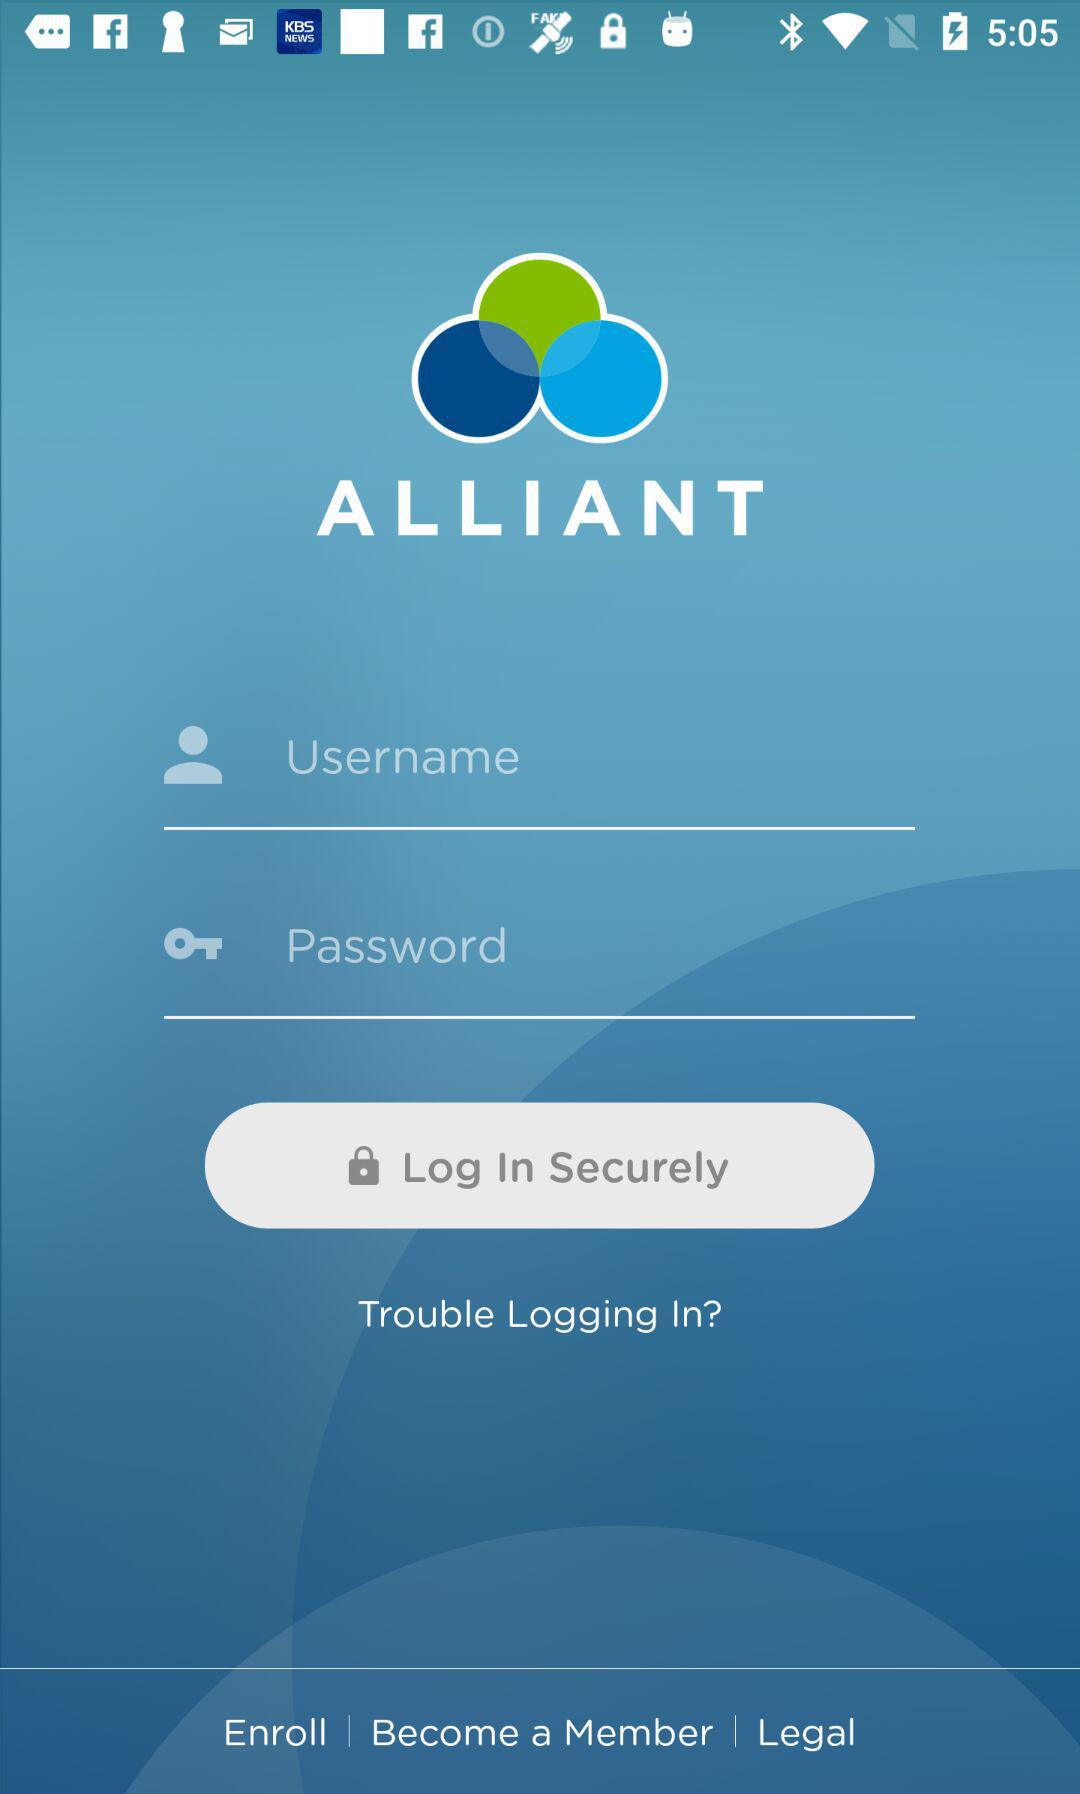EditText: (163, 725, 916, 832), (164, 926, 916, 1021)
Icon: (164, 725, 224, 786)
Image: (410, 252, 670, 447), (164, 926, 224, 961)
Text: (316, 479, 765, 538), (357, 1297, 723, 1337), (373, 1716, 715, 1748), (288, 739, 520, 777), (290, 926, 507, 965), (758, 1716, 855, 1753), (225, 1716, 327, 1748)
TextButton: (204, 1101, 876, 1230)
UpperTaskBar: (1, 1, 1080, 64)
